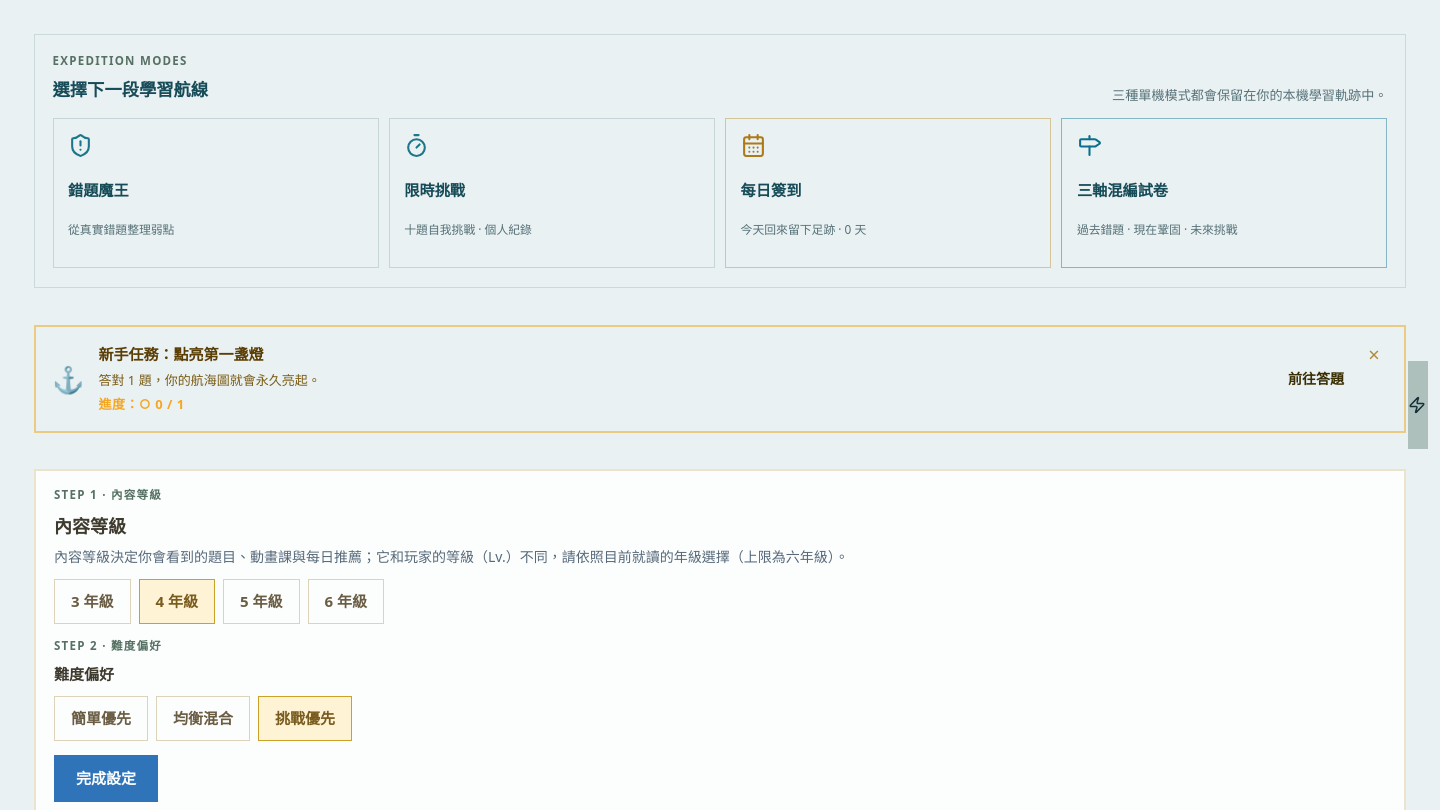
Test: 首頁沉浸式儀表板 › 關閉懸浮鈕後改以右緣細把手開啟側邊欄，功能仍可達
Click the button named "開啟快速行動" at [1418, 405], box [1408, 361, 1428, 449]
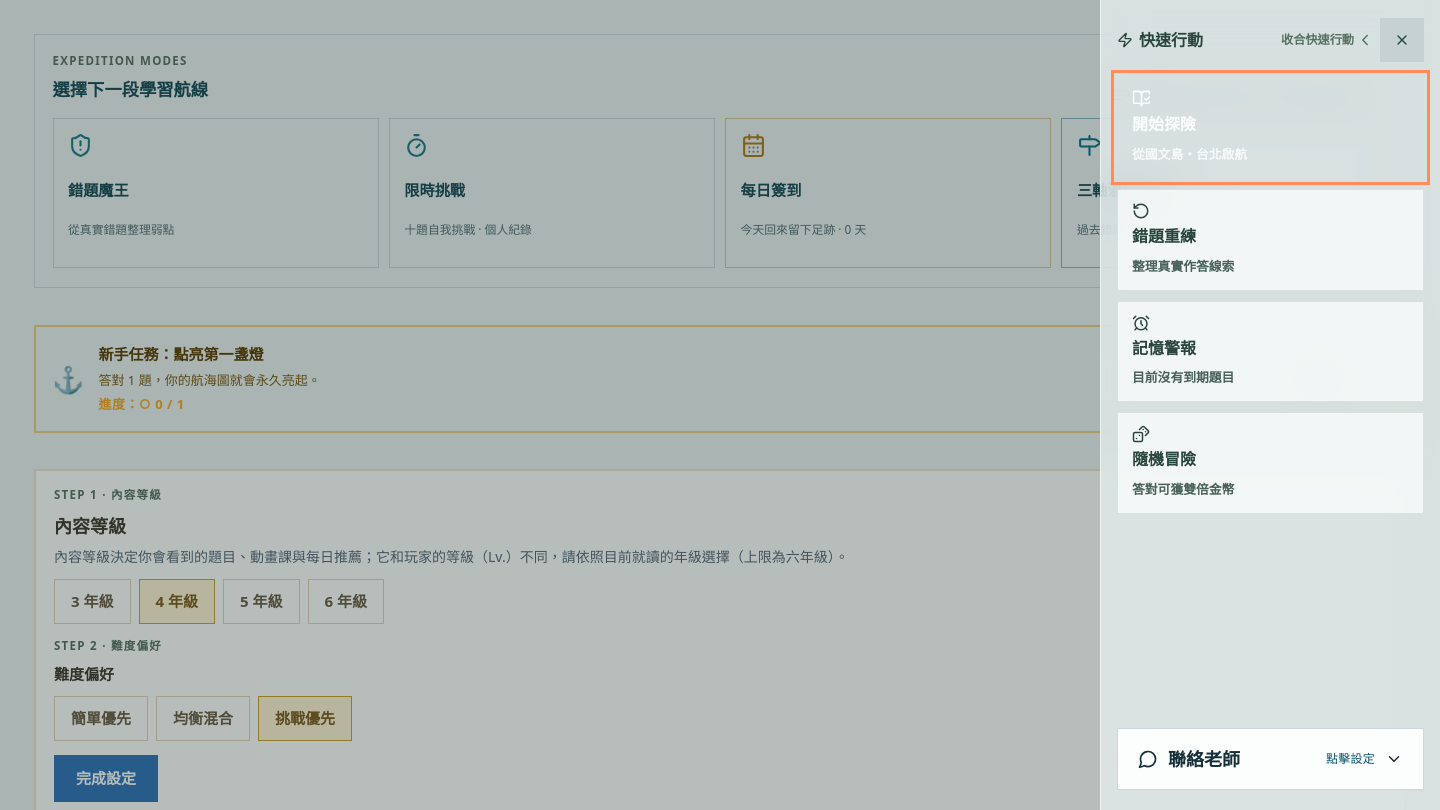
Expected: the navigation bar named "快速行動" is shown, [1117, 76, 1424, 514]
